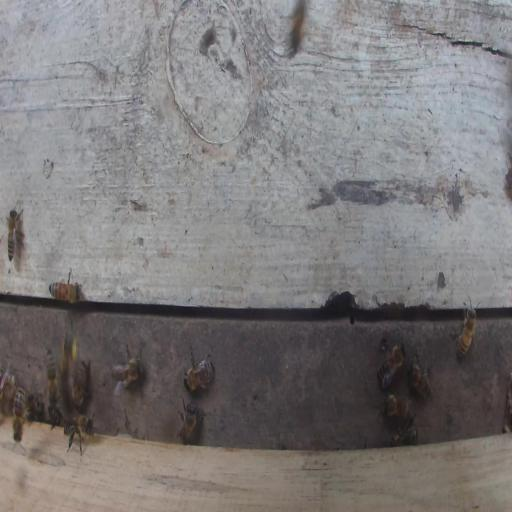nonpollenbee: (110, 344, 142, 394), (456, 296, 480, 360), (377, 338, 406, 390), (183, 347, 215, 393), (63, 413, 97, 455), (48, 266, 84, 303), (407, 350, 431, 400), (286, 1, 306, 53), (176, 400, 199, 445), (7, 207, 25, 263), (71, 360, 90, 410), (380, 393, 413, 421), (46, 349, 60, 406), (12, 386, 25, 445), (390, 420, 417, 447), (47, 405, 64, 431), (27, 393, 38, 423)
pollenbee: (61, 320, 76, 382)
